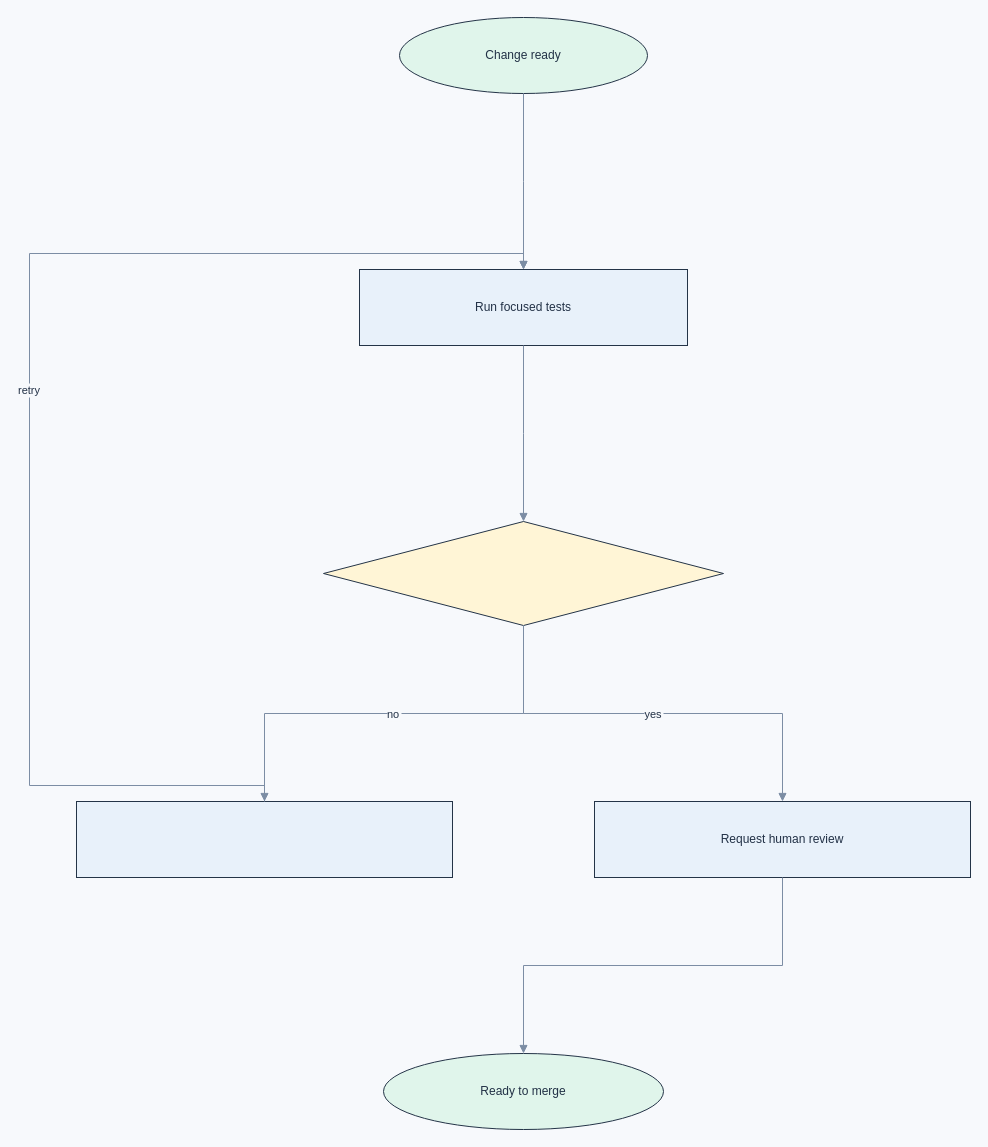
The diagram is 988 pixels wide and 1147 high, and some of its shapes have lost their labels. Each missing label, with the box of its shape:
Fix the failing case: (76, 800, 452, 878)
Tests pass?: (322, 520, 724, 626)
